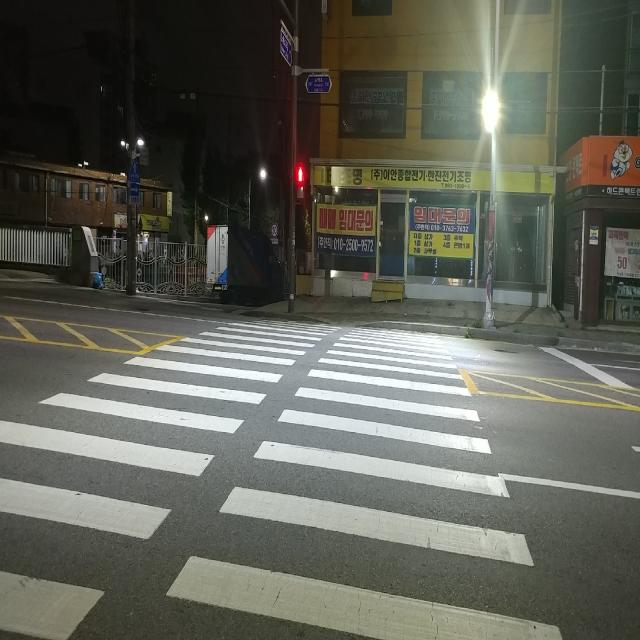빨간불: (295, 158, 311, 210)
횡단보도: (0, 318, 562, 638)
